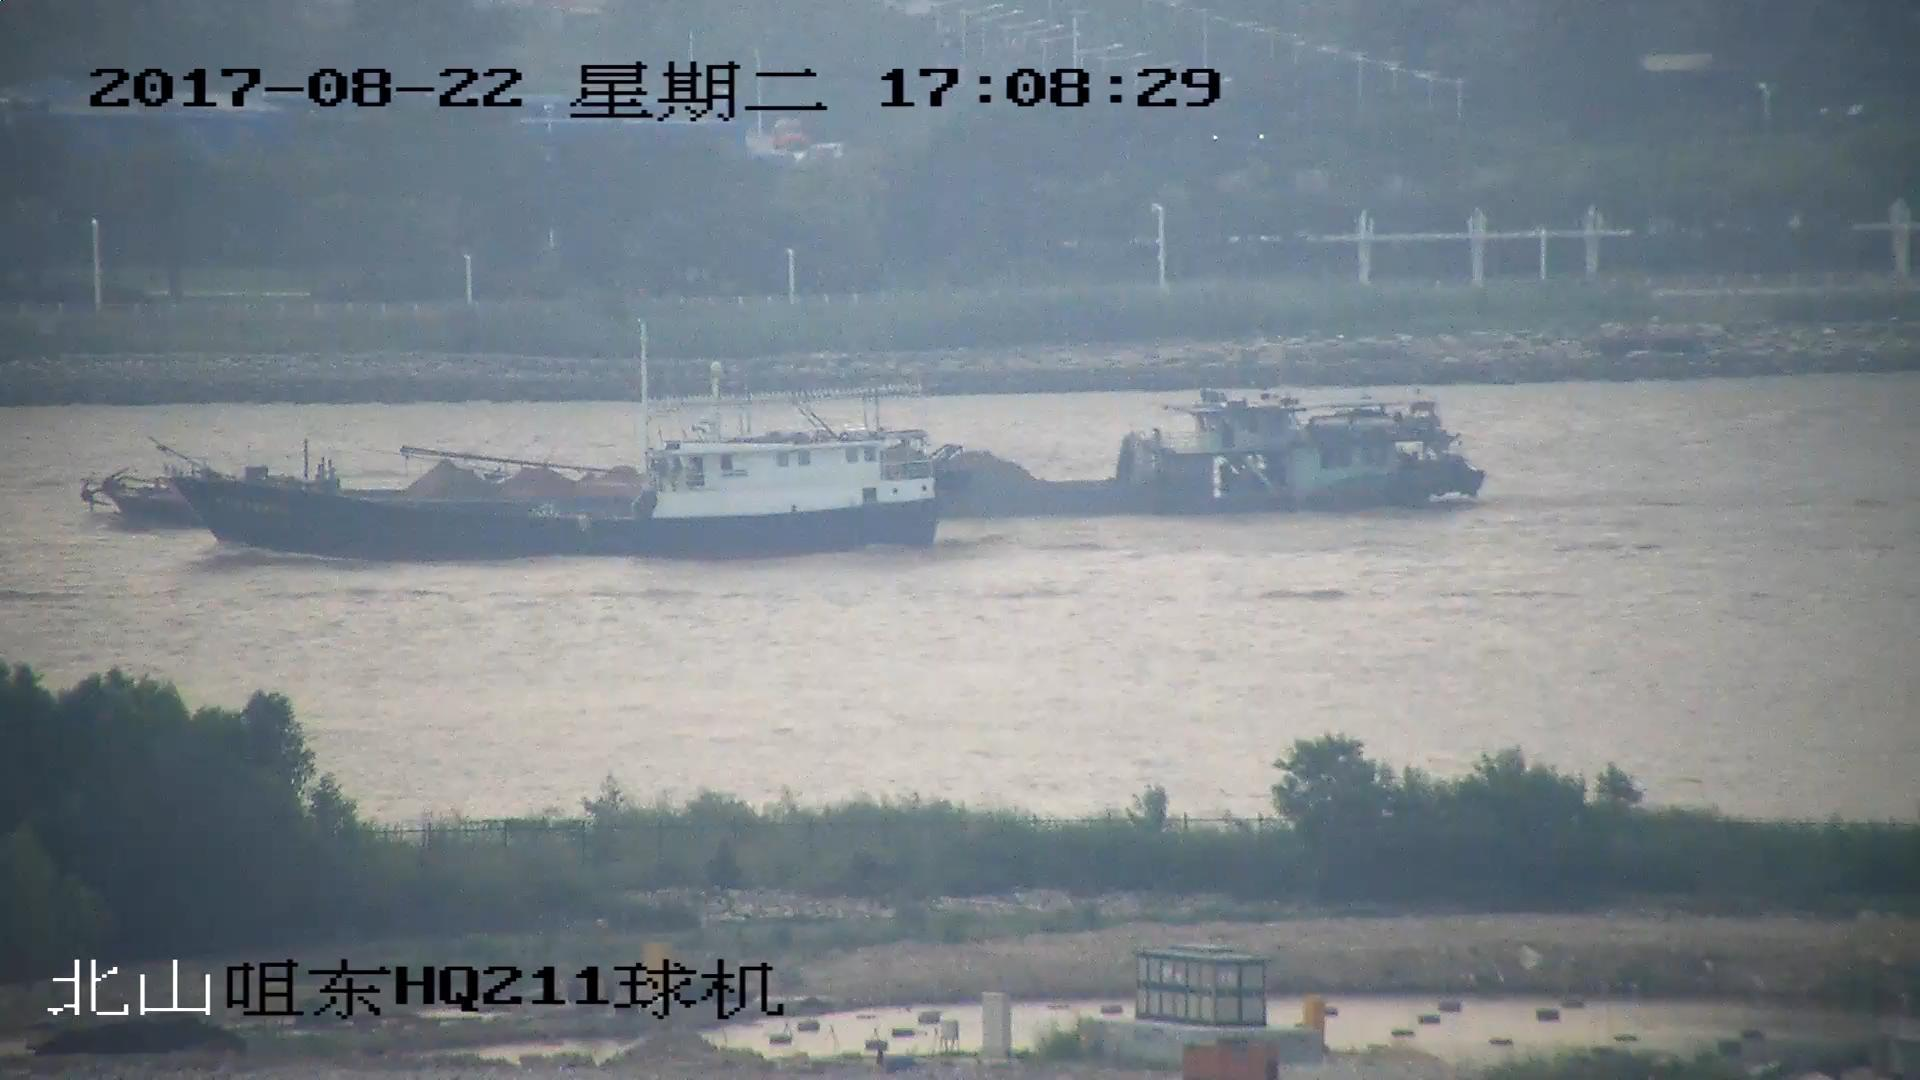Ship: (88, 389, 1485, 526), (183, 372, 938, 556)
